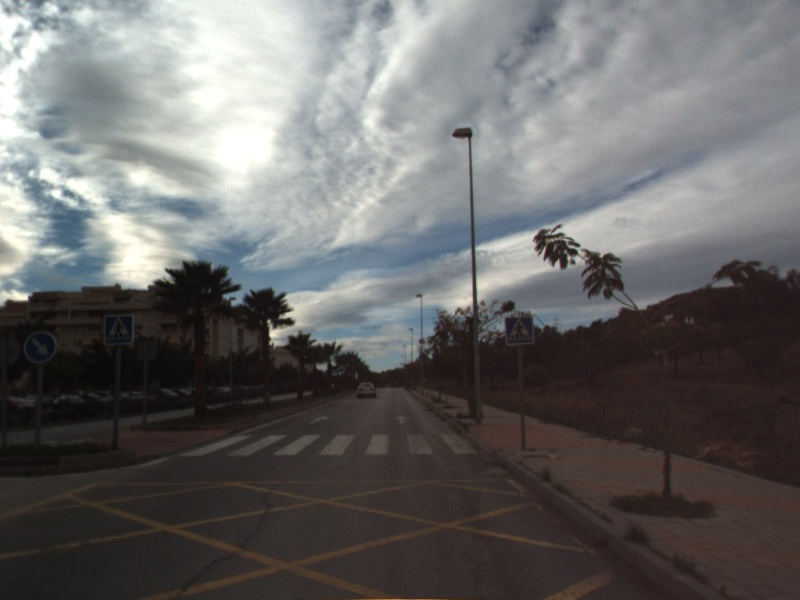STRAIGHT: (307, 413, 331, 426), (392, 413, 410, 426)
